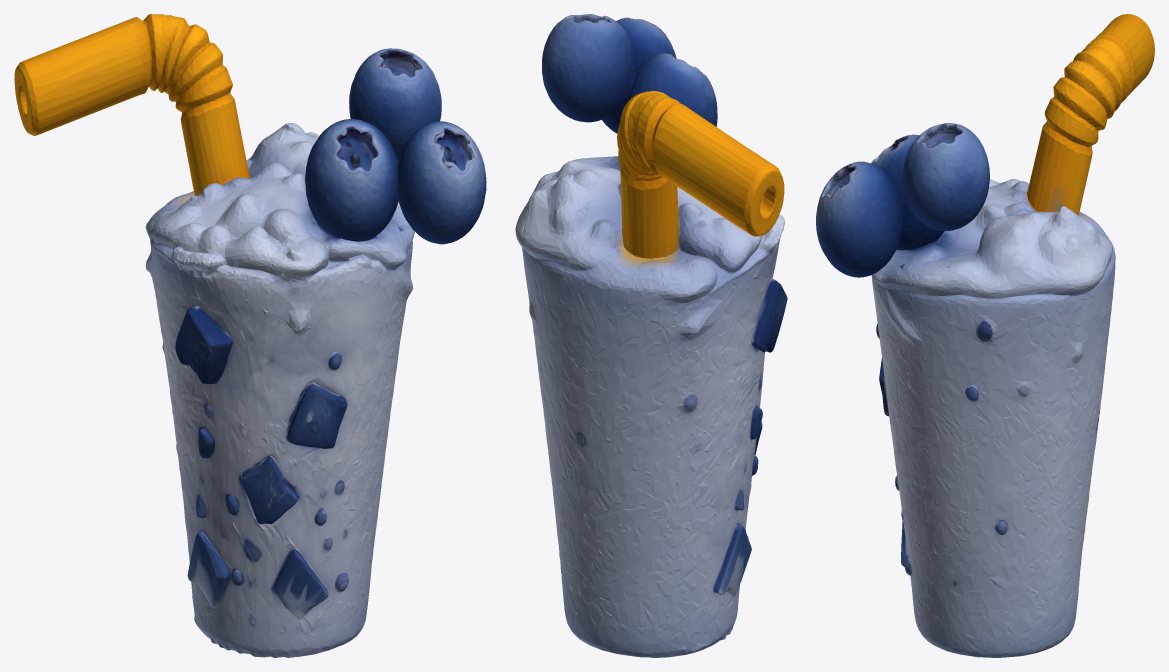
Rendered from Web_MilkSlush_Blueberry.obj.
3 views of the same model, side by side, from view 1: azimuth 30°, elevation 25°; view 2: azimuth 150°, elevation 25°; view 3: azimuth 270°, elevation 25° (orthographic). The views are drawn at different scales.
Parts seen in each view (by area): view 1: Web_MilkSlush_Blueberry; view 2: Web_MilkSlush_Blueberry; view 3: Web_MilkSlush_Blueberry.
Boxes of the visible parts, box(x1,y1,x2,y2) form: Web_MilkSlush_Blueberry: box(14, 14, 486, 657); Web_MilkSlush_Blueberry: box(515, 14, 787, 657); Web_MilkSlush_Blueberry: box(816, 14, 1154, 657).
Bounding box in the file's own units: 0.576 × 1 × 0.5548.
1 material, 1 textured.
